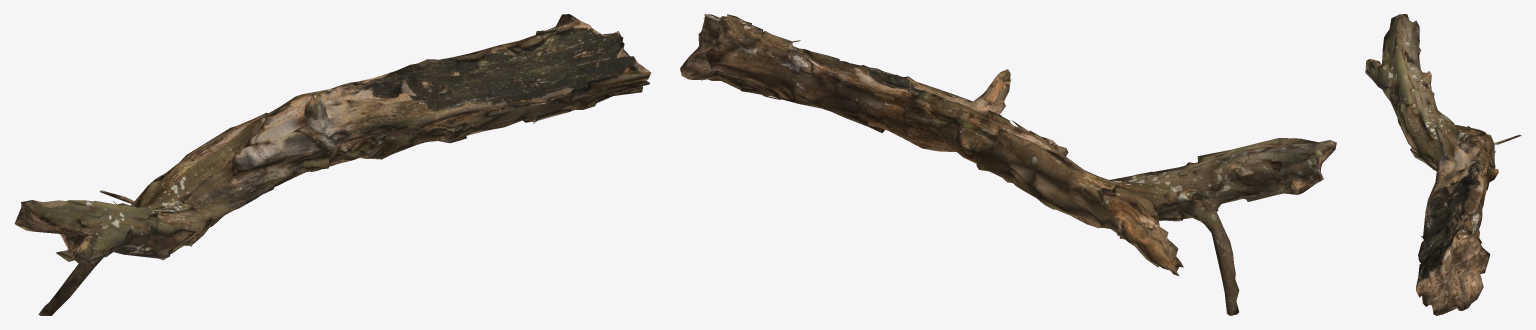
Rendered from dead_tree_trunk_02.glb.
3 renders of one model, left to right at view 1: azimuth 30°, elevation 25°; view 2: azimuth 150°, elevation 25°; view 3: azimuth 270°, elevation 25°, orthographic. The views are drawn at different scales.
Visible parts, largest first — view 1: dead_tree_trunk_02; view 2: dead_tree_trunk_02; view 3: dead_tree_trunk_02.
Part boxes in pixels (bbox=[...]): dead_tree_trunk_02: bbox=[14, 14, 651, 315]; dead_tree_trunk_02: bbox=[680, 14, 1336, 315]; dead_tree_trunk_02: bbox=[1365, 14, 1521, 315].
Size of the model in its own units: 4.05 by 1.05 by 1.05.
Materials: 1 (1 with a texture image).
